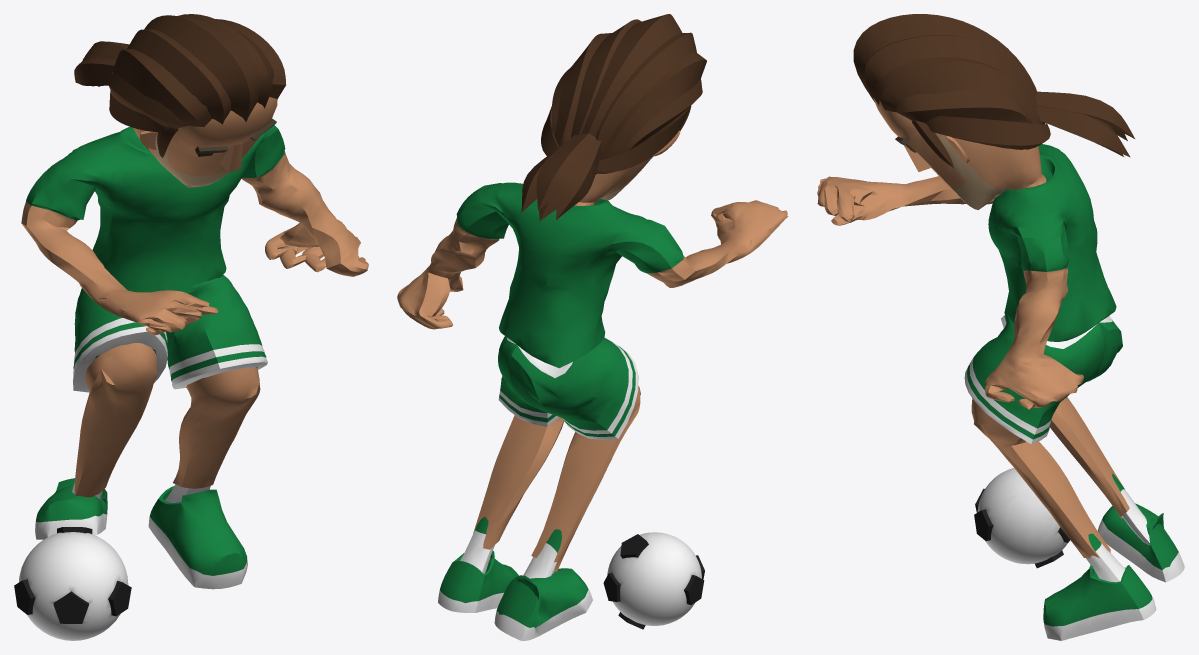
Rendered from av-boleiro-varzea.glb.
3 views of the same model, side by side, from view 1: azimuth 30°, elevation 25°; view 2: azimuth 150°, elevation 25°; view 3: azimuth 270°, elevation 25° (orthographic). The views are drawn at different scales.
Visible parts, largest first — view 1: Ad_bola_futebol_0_0; view 2: Ad_bola_futebol_0_0; view 3: Ad_bola_futebol_0_0.
Boxes of the visible parts, <box> form: Ad_bola_futebol_0_0: <box>14,14,368,640</box>; Ad_bola_futebol_0_0: <box>397,14,788,640</box>; Ad_bola_futebol_0_0: <box>817,14,1184,640</box>.
Size of the model in its own units: 0.8083 by 1.45 by 0.8408.
1 material, 1 textured.
